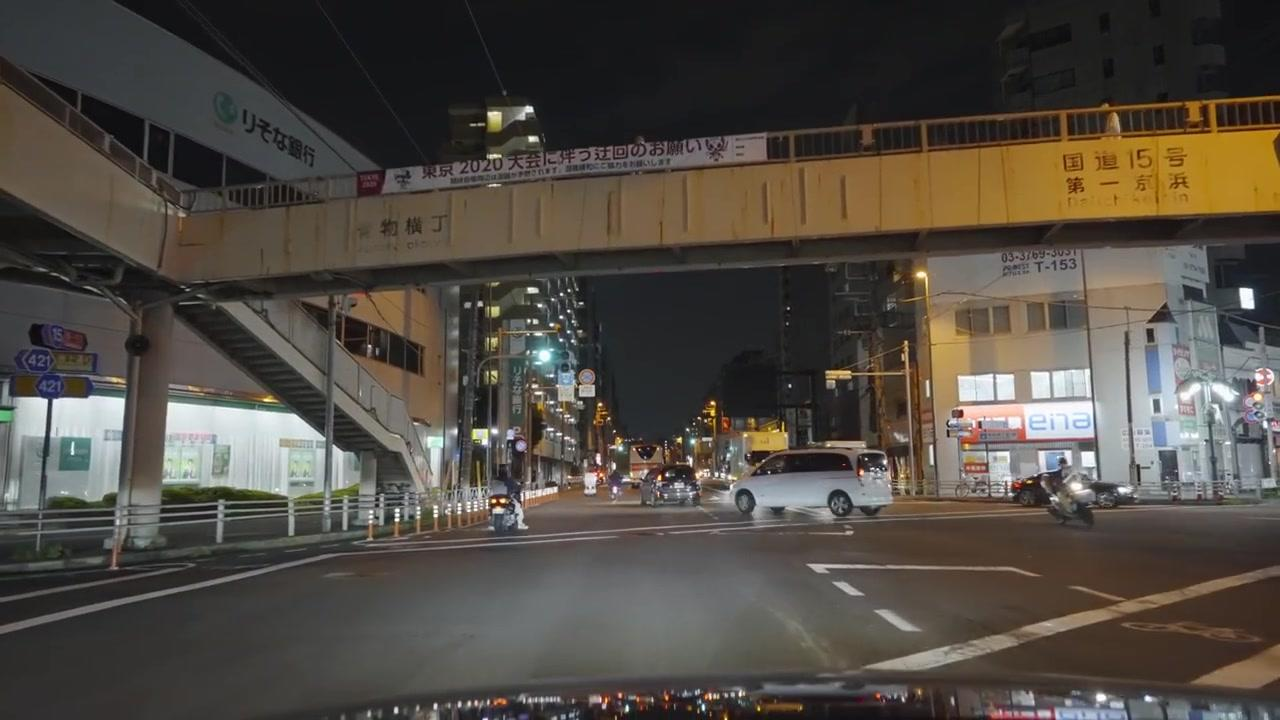car: (728, 445, 893, 520), (639, 464, 701, 506)
motorcycle: (1047, 483, 1095, 528)
person: (1047, 469, 1094, 526), (492, 468, 527, 526), (1050, 455, 1081, 515)
